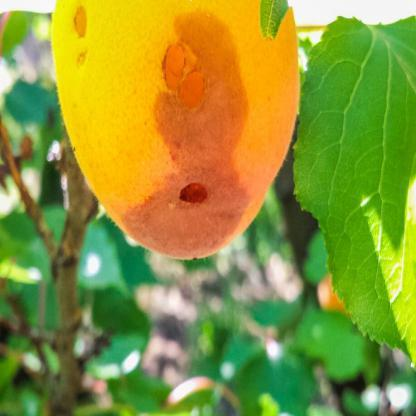orange_rotten: (49, 0, 302, 260)
